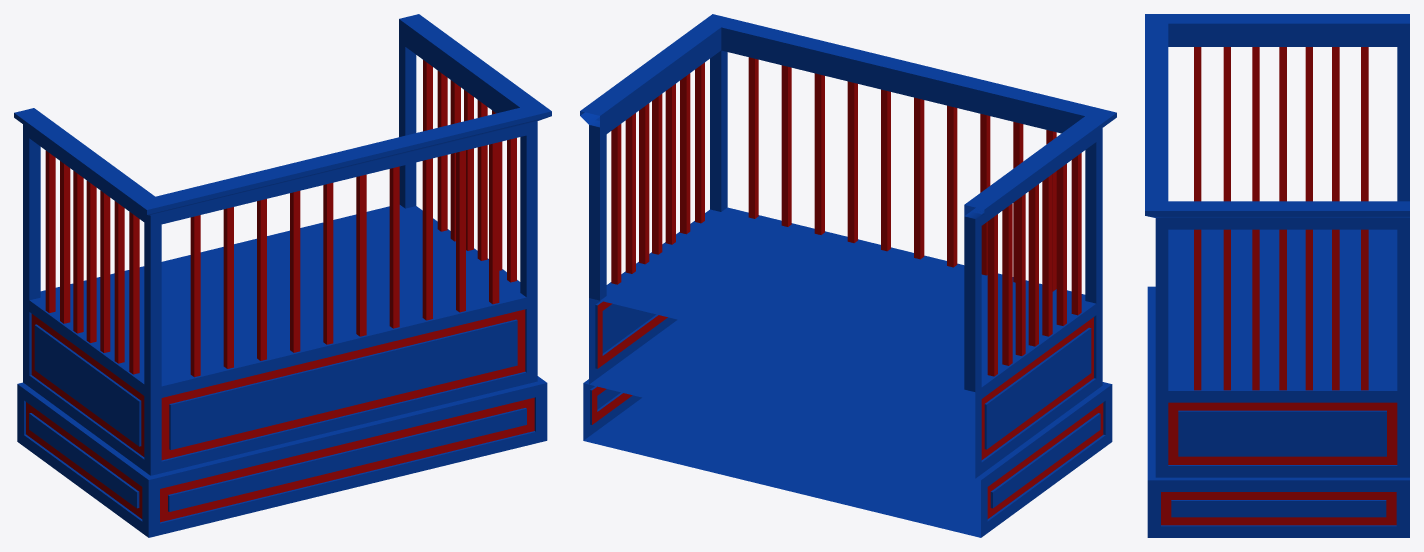
The model's file is Balcony02.fbx.
3 views of the same model, side by side, from view 1: azimuth 30°, elevation 25°; view 2: azimuth 150°, elevation 25°; view 3: azimuth 270°, elevation 25° (orthographic).
Visible parts, largest first — view 1: Balcony02; view 2: Balcony02; view 3: Balcony02.
Boxes of the visible parts, bbox=[...] form: Balcony02: bbox=[14, 14, 551, 537]; Balcony02: bbox=[580, 14, 1116, 537]; Balcony02: bbox=[1145, 14, 1409, 537].
Bounding box in the file's own units: 366 × 285 × 208.
